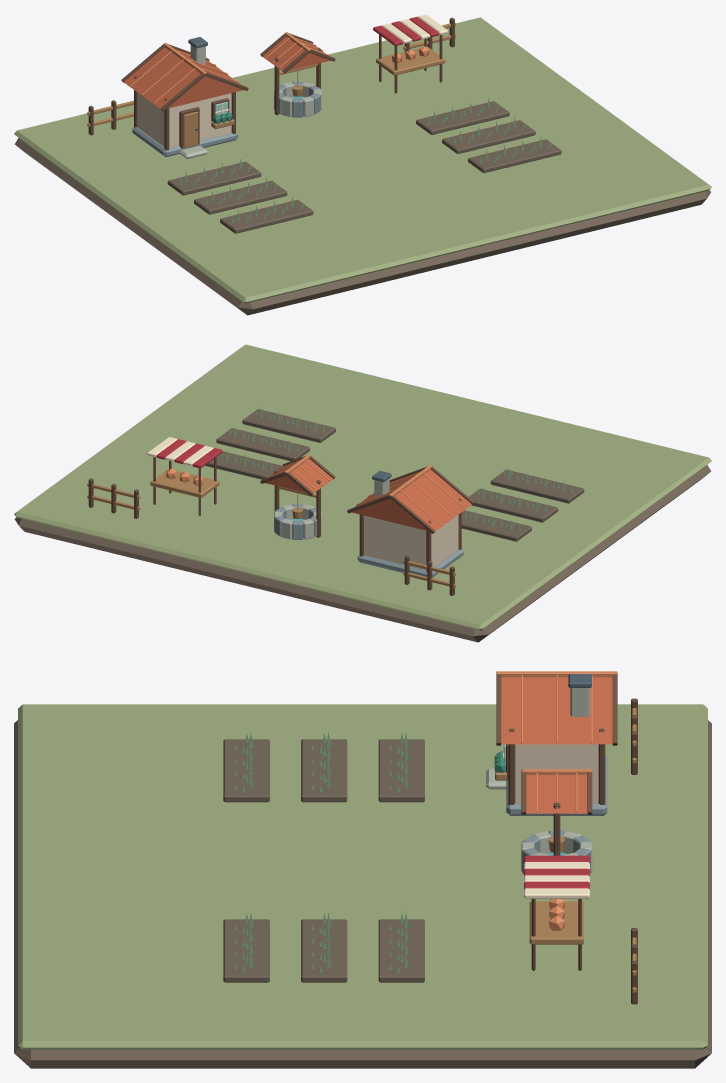
File: world-farm.glb
3 views of the same model, one above another, from view 1: azimuth 30°, elevation 25°; view 2: azimuth 150°, elevation 25°; view 3: azimuth 270°, elevation 25° (orthographic). The views are drawn at different scales.
Visible parts, largest first — view 1: terrain-top, terrain-stratum, cottage-roof.001, plaster-walls.001, raised-bed.002, raised-bed, raised-bed.001, raised-bed.004, raised-bed.005, raised-bed.003, well-roof.001, counter.001 (+2 smaller); view 2: terrain-top, terrain-stratum, cottage-roof.001, plaster-walls.001, raised-bed, raised-bed.003, raised-bed.004, raised-bed.001, raised-bed.002, raised-bed.005, well-roof.001, counter.001 (+1 smaller); view 3: terrain-top, terrain-stratum, cottage-roof.001, raised-bed.003, raised-bed.002, raised-bed.005, raised-bed, raised-bed.001, raised-bed.004, plaster-walls.001, well-roof.001, counter.001 (+3 smaller).
Part boxes in pixels (<box>): terrain-top: <box>14,17,711,303</box>; terrain-stratum: <box>14,138,710,315</box>; cottage-roof.001: <box>123,47,243,109</box>; plaster-walls.001: <box>137,92,231,147</box>; raised-bed.002: <box>167,161,261,195</box>; raised-bed: <box>220,199,313,233</box>; raised-bed.001: <box>194,180,287,214</box>; raised-bed.004: <box>442,120,535,154</box>; raised-bed.005: <box>416,101,509,134</box>; raised-bed.003: <box>468,139,561,173</box>; well-roof.001: <box>262,36,330,70</box>; counter.001: <box>376,46,445,75</box>; terrain-top: <box>14,344,711,630</box>; terrain-stratum: <box>15,465,711,642</box>; cottage-roof.001: <box>352,469,471,531</box>; plaster-walls.001: <box>364,515,458,570</box>; raised-bed: <box>490,469,584,503</box>; raised-bed.003: <box>242,409,335,442</box>; raised-bed.004: <box>216,428,309,461</box>; raised-bed.001: <box>468,488,558,522</box>; raised-bed.002: <box>461,510,531,541</box>; raised-bed.005: <box>205,451,282,479</box>; well-roof.001: <box>265,459,333,493</box>; counter.001: <box>150,468,219,497</box>; terrain-top: <box>18,704,707,1049</box>; terrain-stratum: <box>14,720,711,1068</box>; cottage-roof.001: <box>501,677,612,744</box>; raised-bed.003: <box>223,919,269,982</box>; raised-bed.002: <box>378,739,424,802</box>; raised-bed.005: <box>378,919,424,982</box>; raised-bed: <box>223,739,269,802</box>; raised-bed.001: <box>301,739,347,802</box>; raised-bed.004: <box>301,919,347,982</box>; plaster-walls.001: <box>515,744,598,803</box>; well-roof.001: <box>526,775,587,813</box>; counter.001: <box>529,901,583,944</box>.
Bounding box in the file's own units: 21 × 4.52 × 18.
